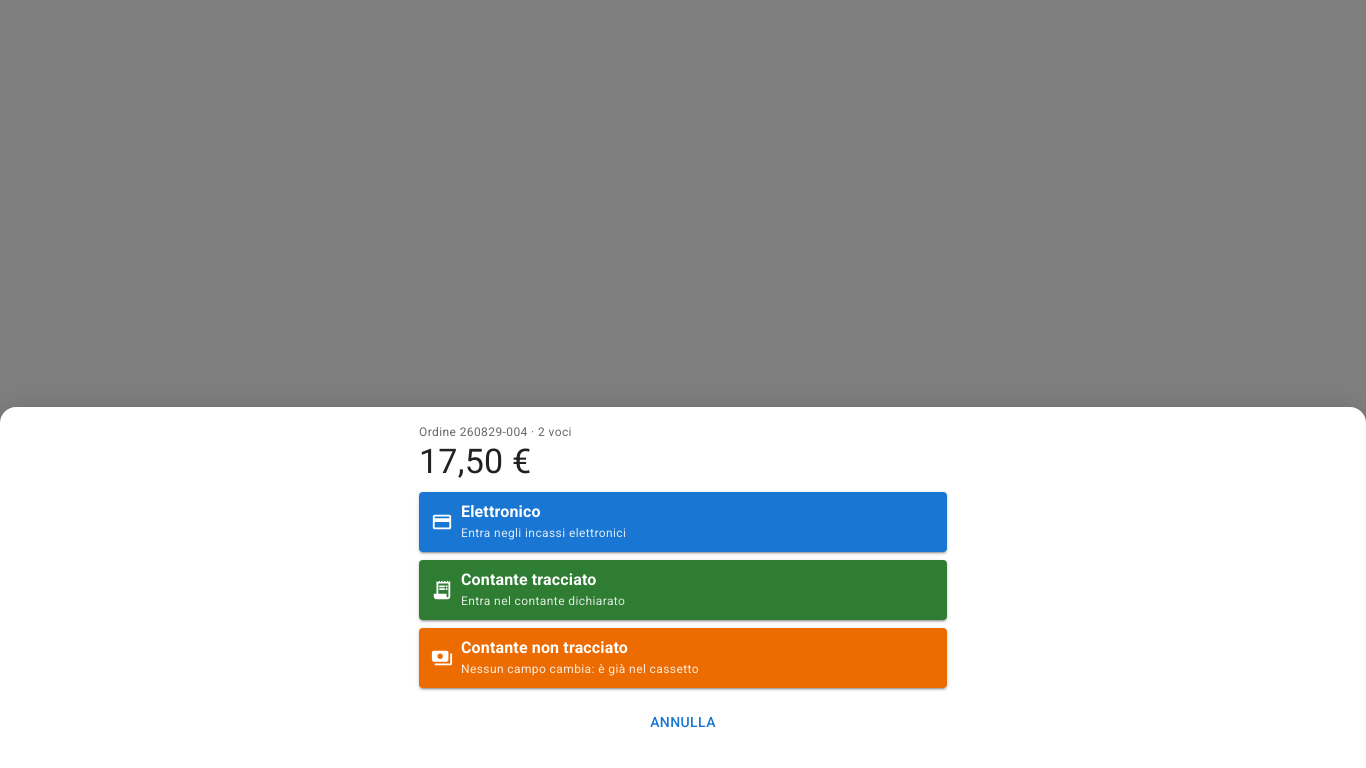
Test: ChiusuraOrdine › la cancellazione toglie una cifra alla volta
The image size is (1366, 768).
Click the text "Contante tracciato" at (529, 580), box [461,568,596,592]
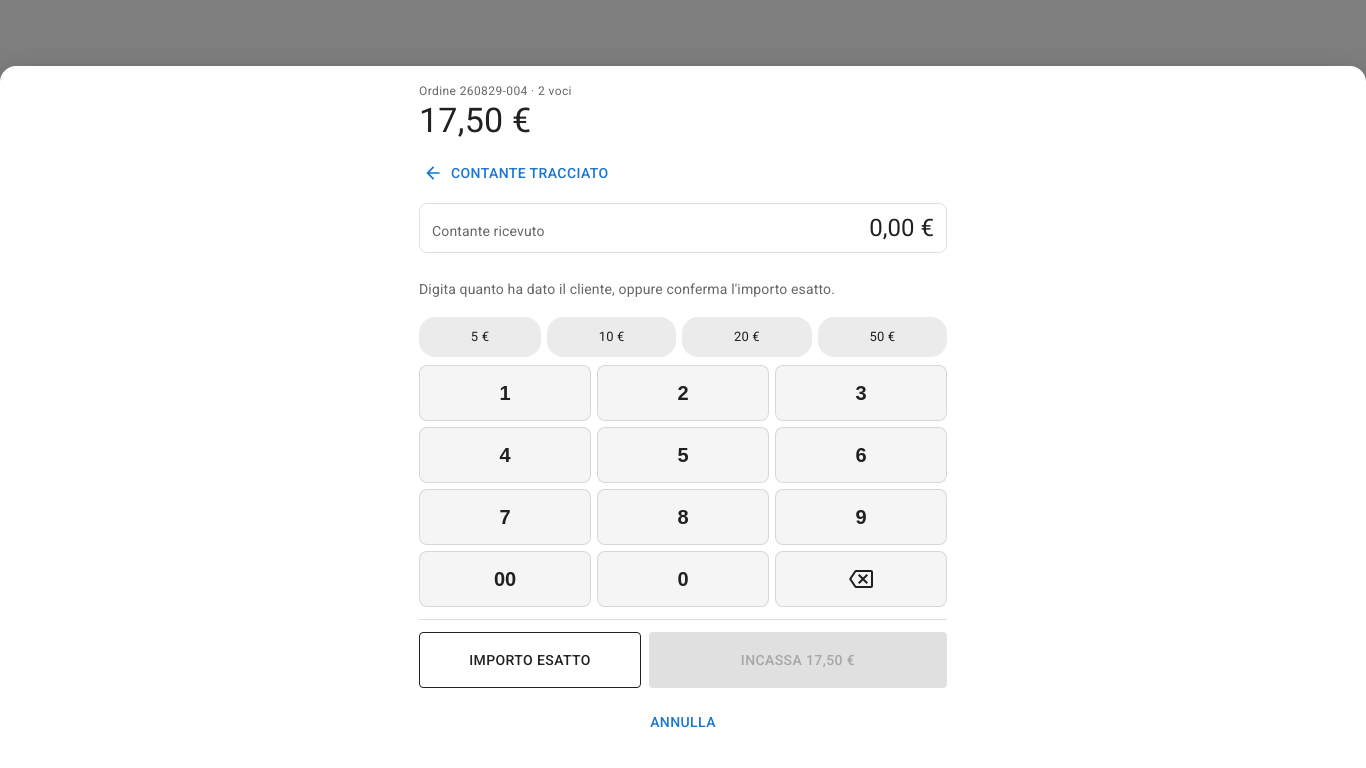
Click the button "2" at (683, 393), box [597,365,769,421]
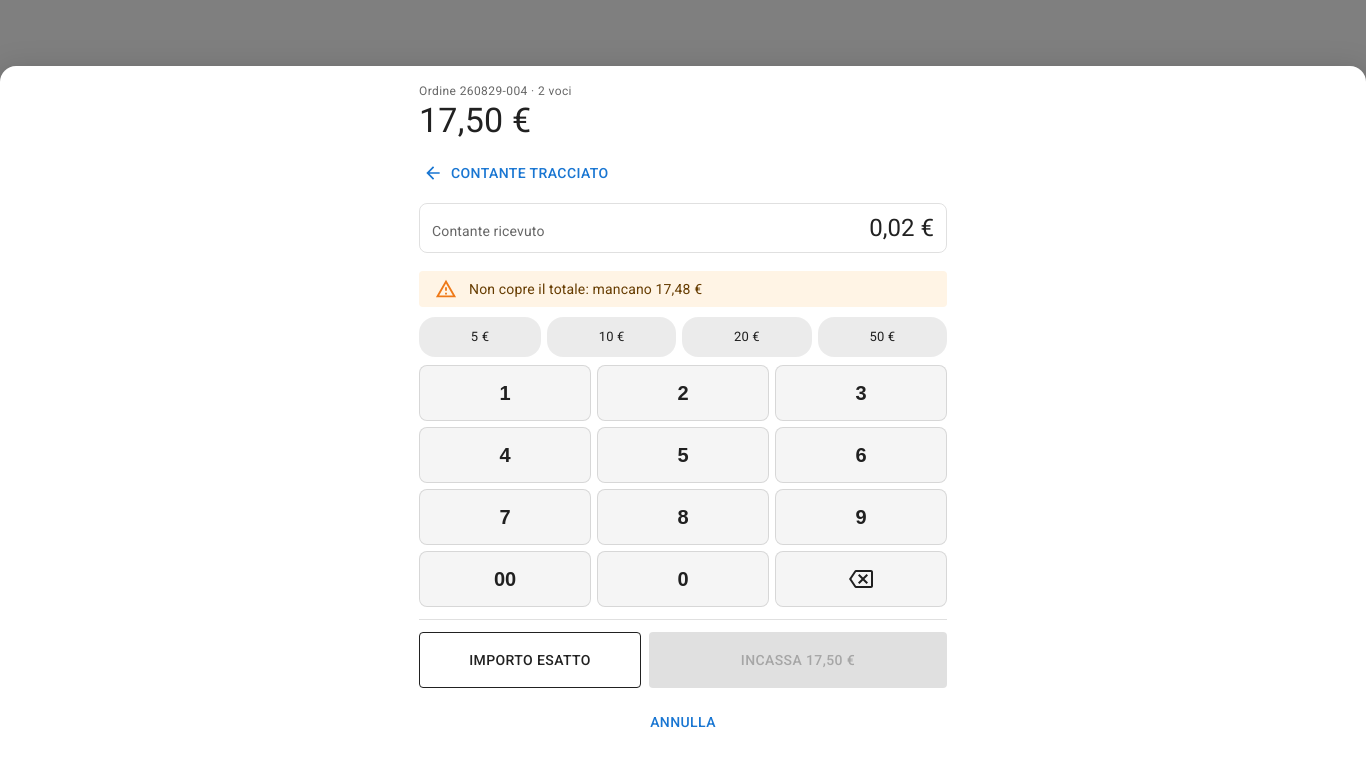
Click the button "0" at (683, 579), box [597,551,769,607]
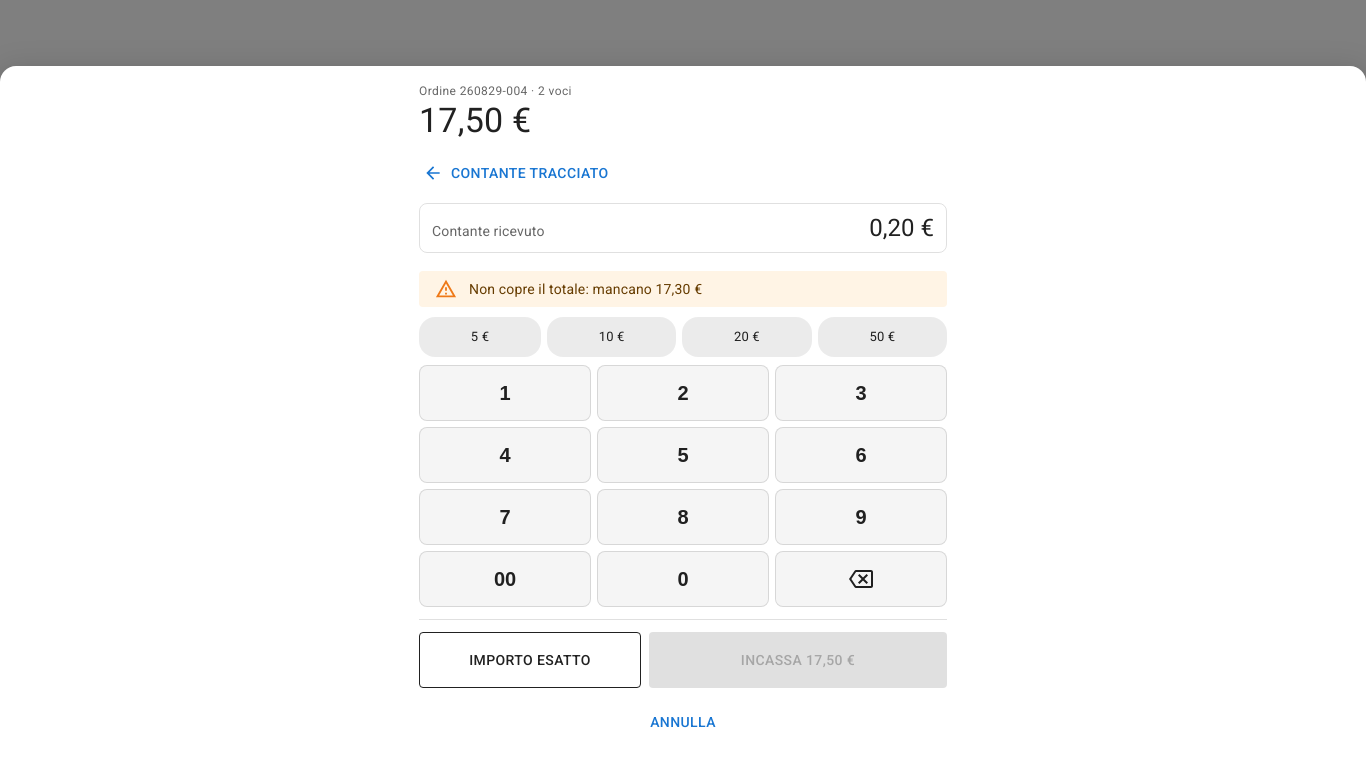
Click the button "0" at (683, 579), box [597,551,769,607]
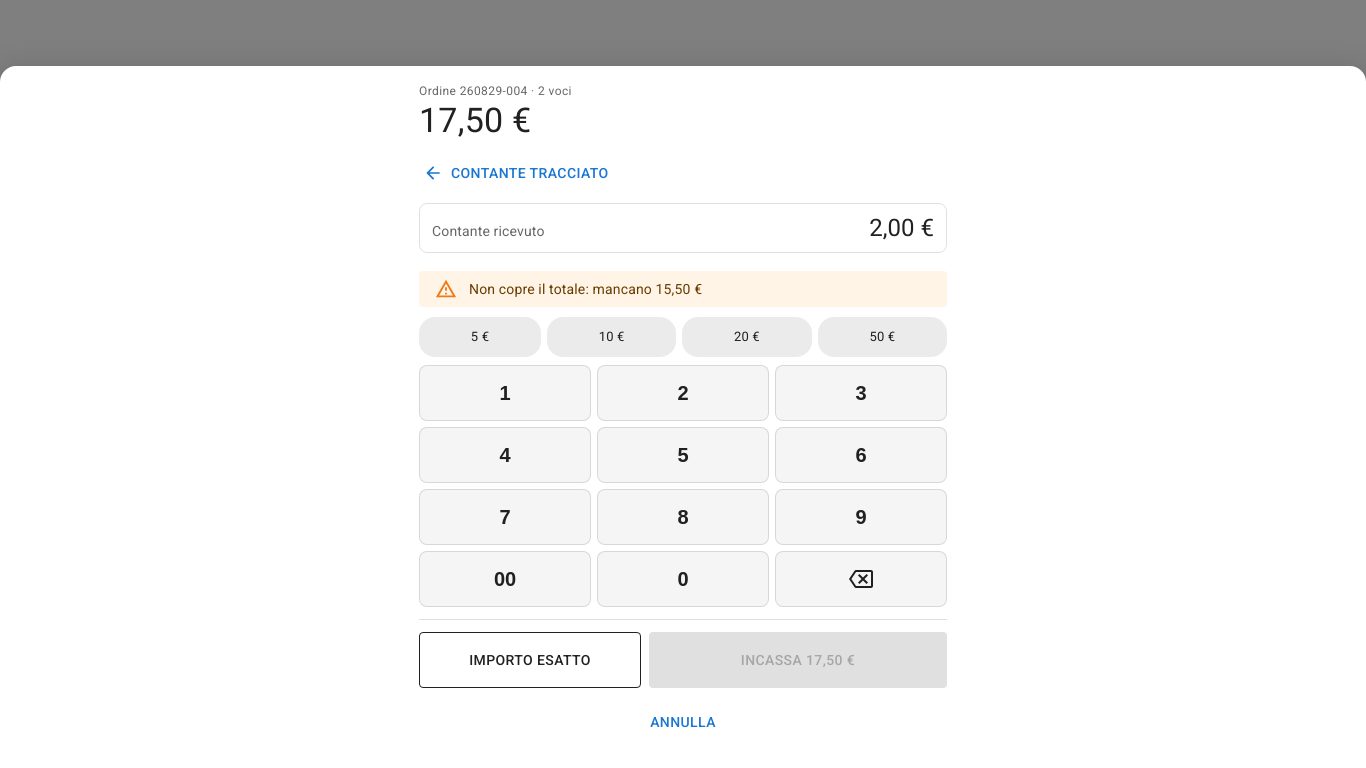
Click the button "0" at (683, 579), box [597,551,769,607]
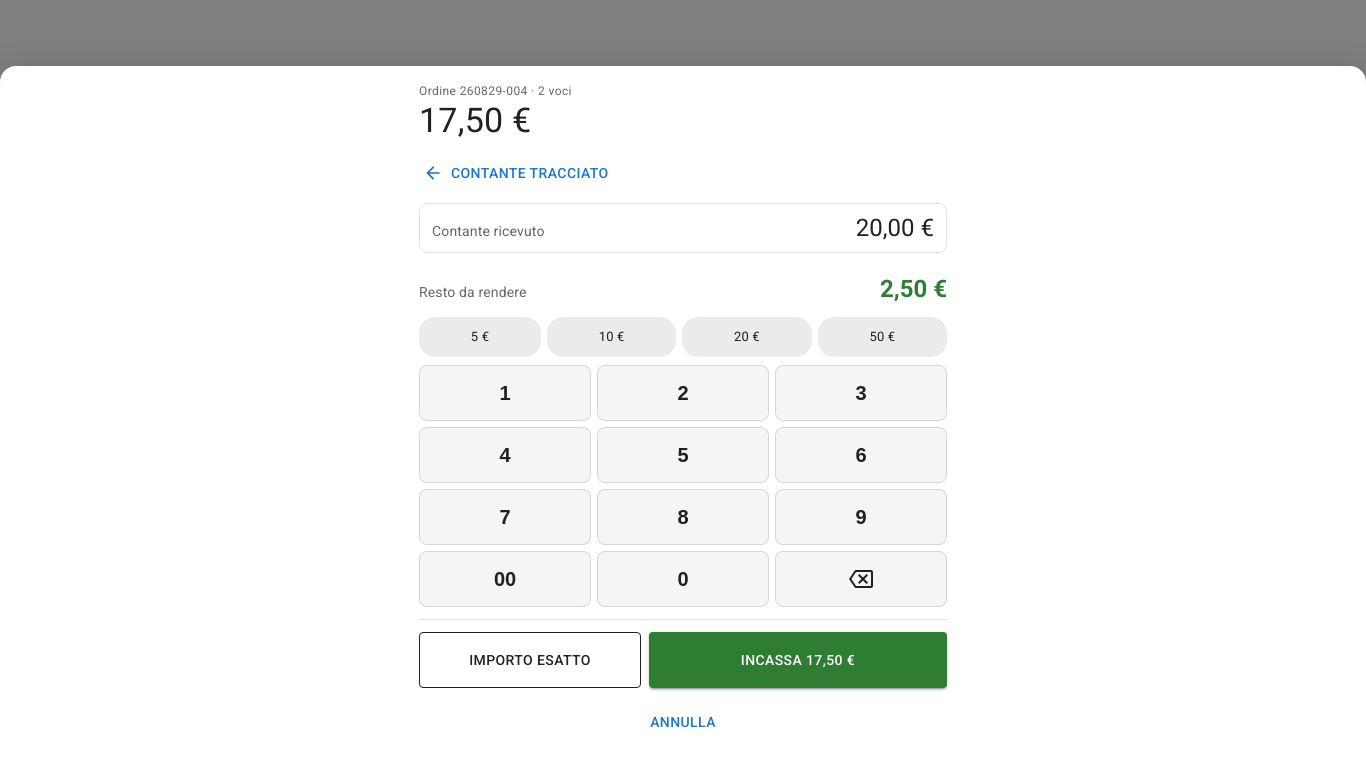
Click the button named "Cancella ultima cifra" at (861, 579), box [775,551,947,607]
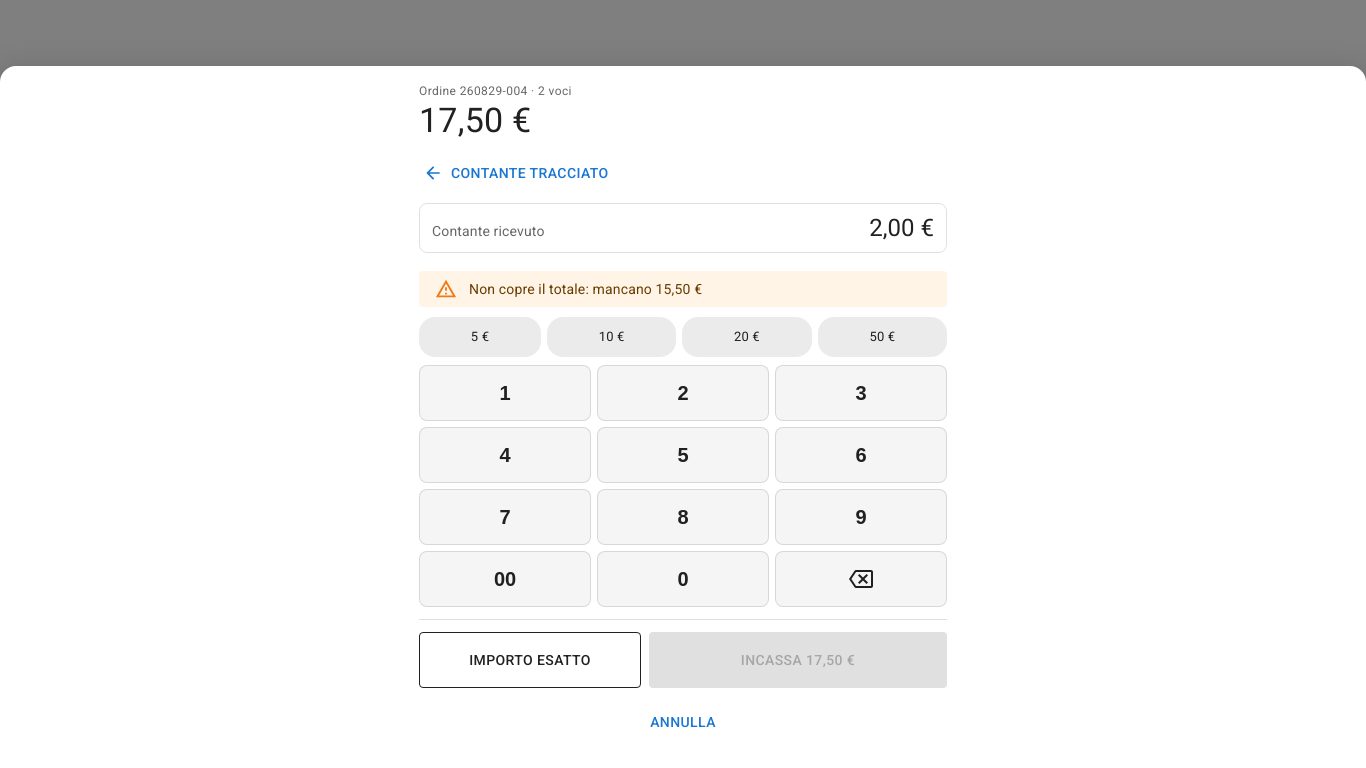
Result: the heading "2,00 €" is shown at [869,212,934,244]
